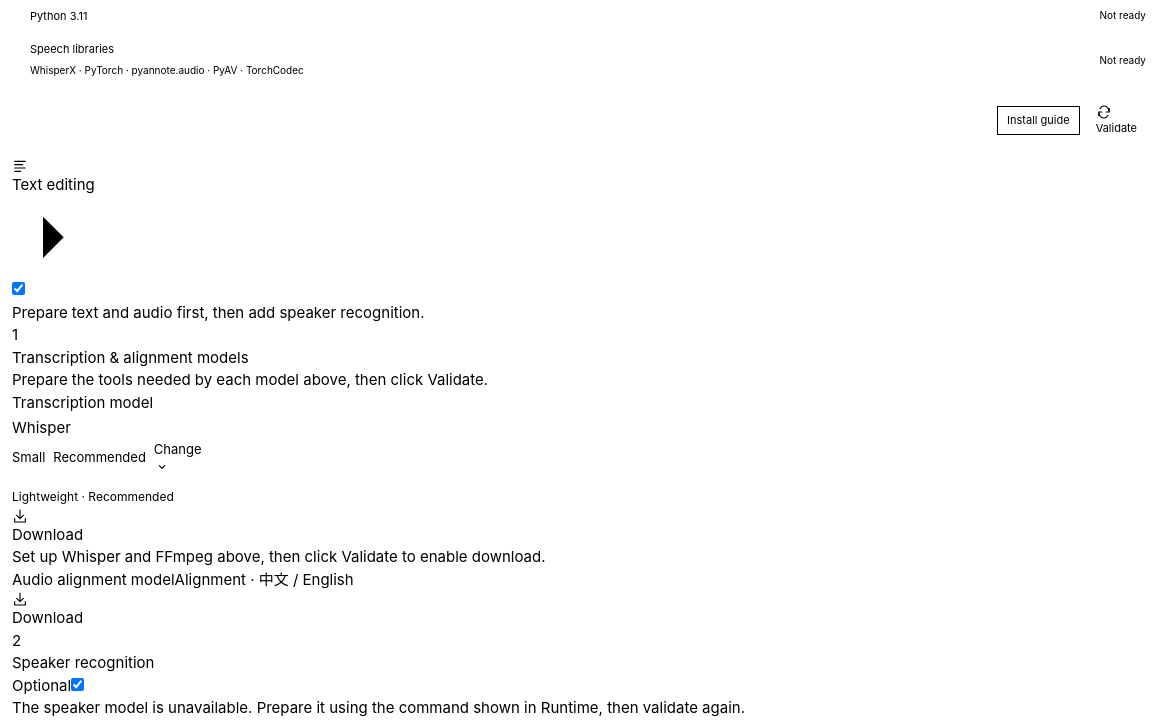
it: allows choosing a model before preparing the development runtime
The image size is (1164, 720).
(page scrolled)
Click the button with aria-label "Change Whisper model": [178, 457] box [154,440,202,475]
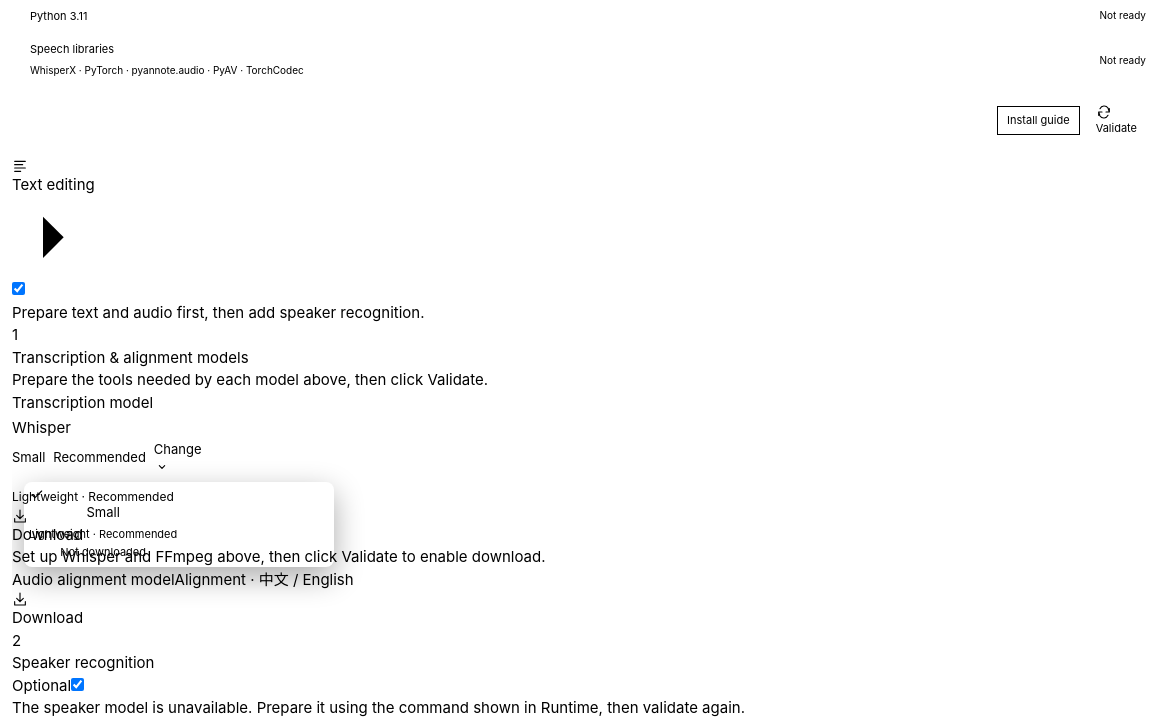
expect the button with aria-label "Download Whisper Small" is disabled: met, box [12,508,83,546]
expect the menu item "Small Lightweight · Recommended Not downloaded" is shown: met, box [29,487,177,562]
